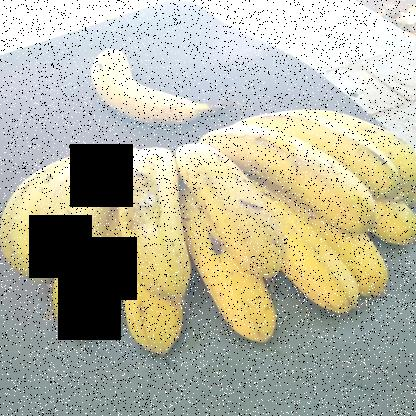ripe: (192, 111, 372, 227), (59, 28, 232, 125), (184, 126, 280, 279), (110, 143, 195, 305), (277, 198, 368, 320), (44, 144, 119, 291), (0, 145, 73, 281), (188, 242, 280, 330), (46, 264, 124, 354), (122, 277, 190, 358)
